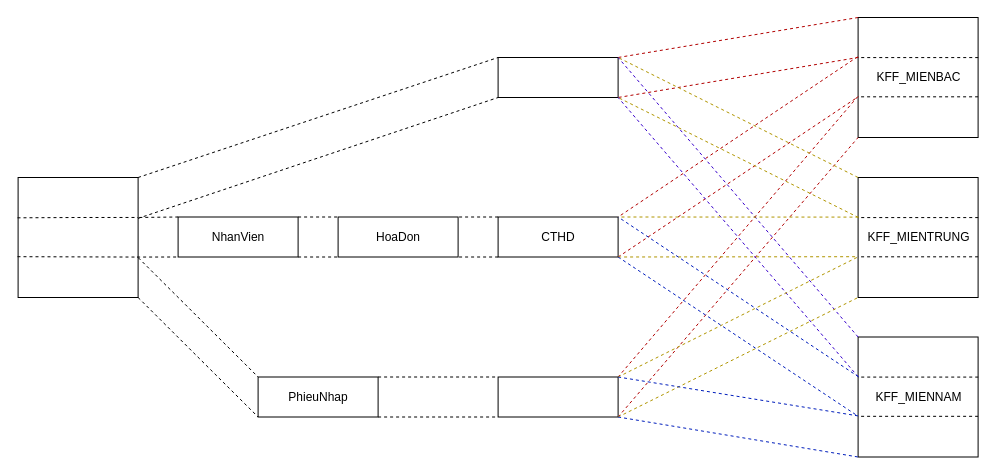
Some shapes in this 1001 by 476 pixel diagram are drawn without their labels. Here are the shapes that lost their labels. From the top down, the centre of each, then its label:
At point (557, 77): "CTK".
At point (77, 237): "KingFastFood".
At point (557, 396): "CTPN".
